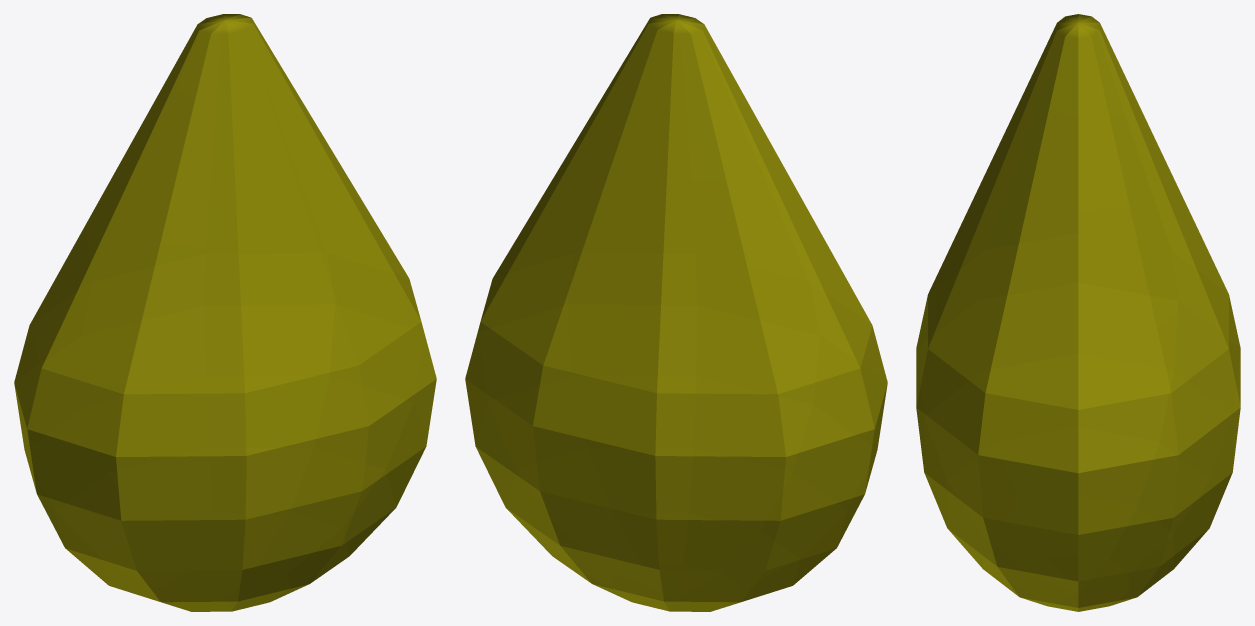
Rendered from Mother_seed.fbx.
The picture shows the model from 3 angles, left to right: view 1: azimuth 30°, elevation 25°; view 2: azimuth 150°, elevation 25°; view 3: azimuth 270°, elevation 25°; orthographic projection.
Visible parts, largest first — view 1: pCone2; view 2: pCone2; view 3: pCone2.
Boxes of the visible parts, x1,y1,x2,y2 form: pCone2: (14,14,436,611); pCone2: (465,14,887,611); pCone2: (916,14,1240,611).
Size of the model in its own units: 3.7 by 5.16 by 2.66.
